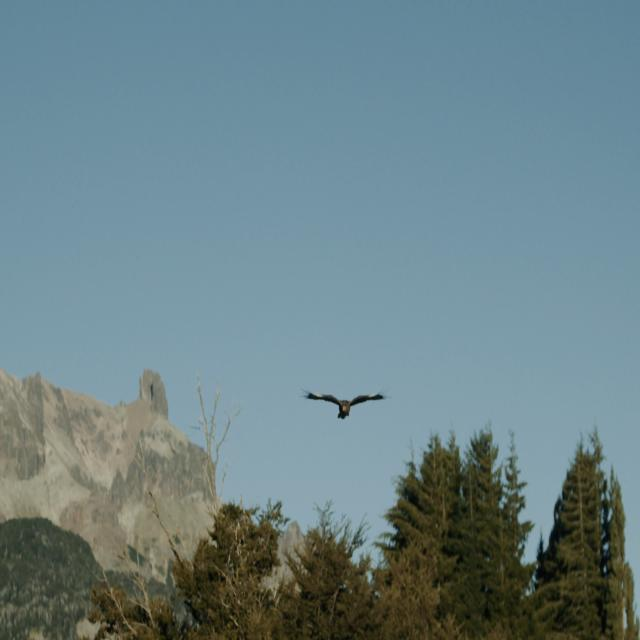bird: (299, 384, 385, 429)
